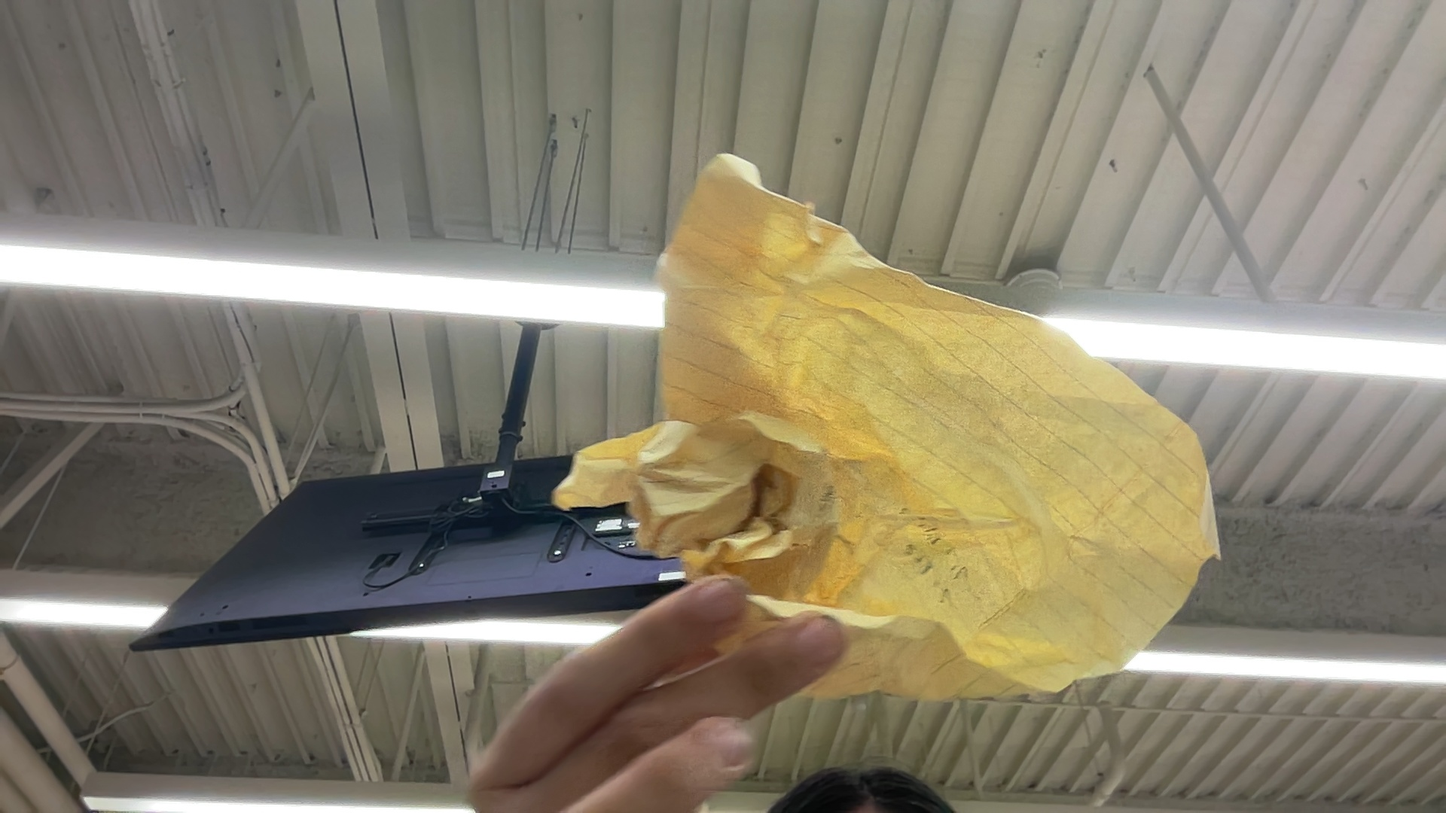Paper: (546, 414, 832, 564)
